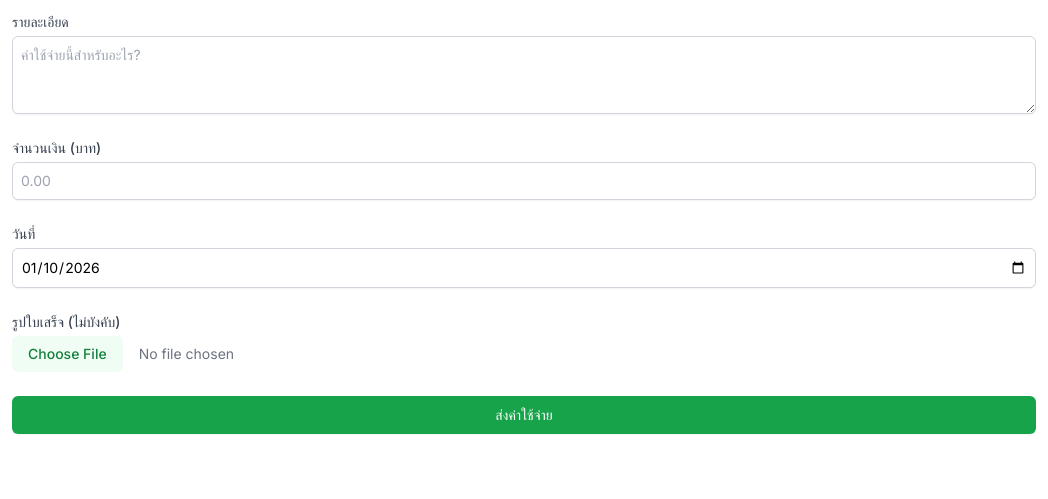
Scenario: ExpenseForm › should show validation errors for empty required fields
The image size is (1048, 499).
Click the button "ส่งค่าใช้จ่าย".
click(524, 415)  # box [12, 396, 1036, 434]
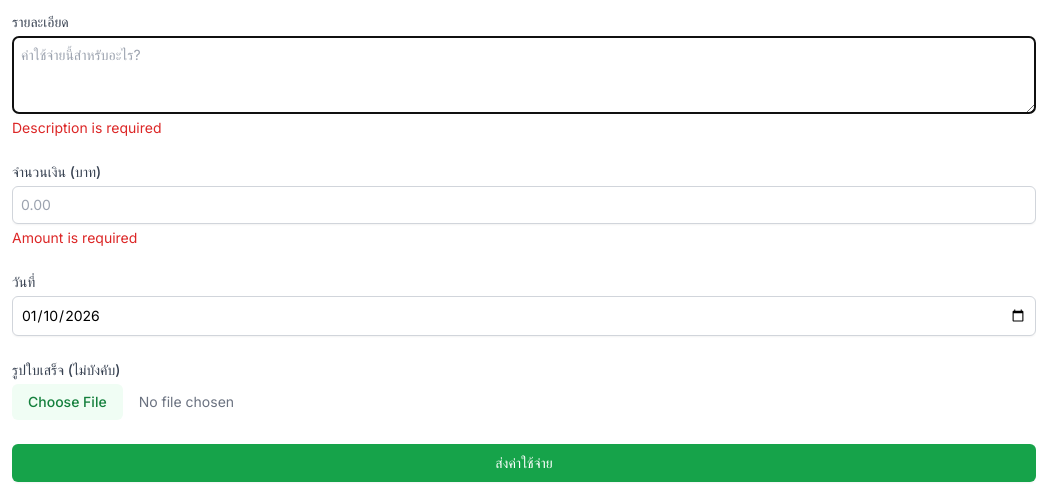
Result: the text "Description is required" is shown at [12, 119, 162, 136]
